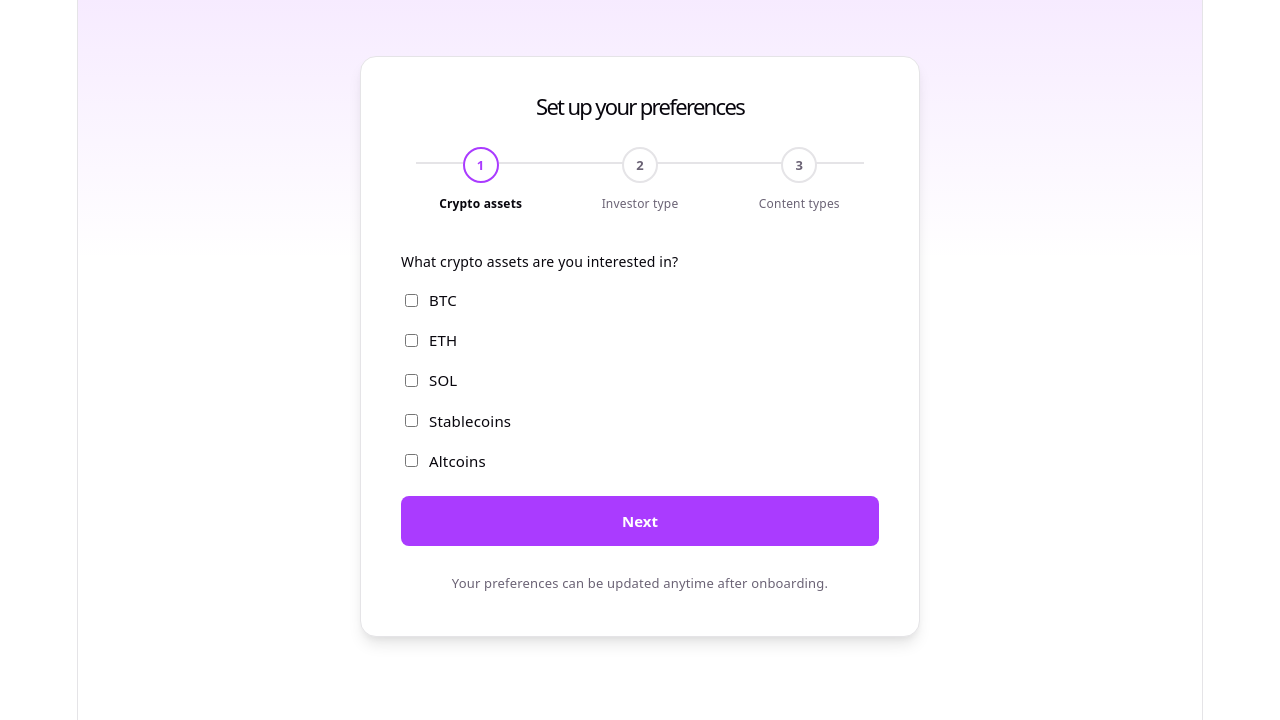
Test case: OnboardingPage › displays a validation error returned by the API on 400
Step 1. Click the checkbox labelled "BTC" → (412, 300), box [405, 294, 418, 307]
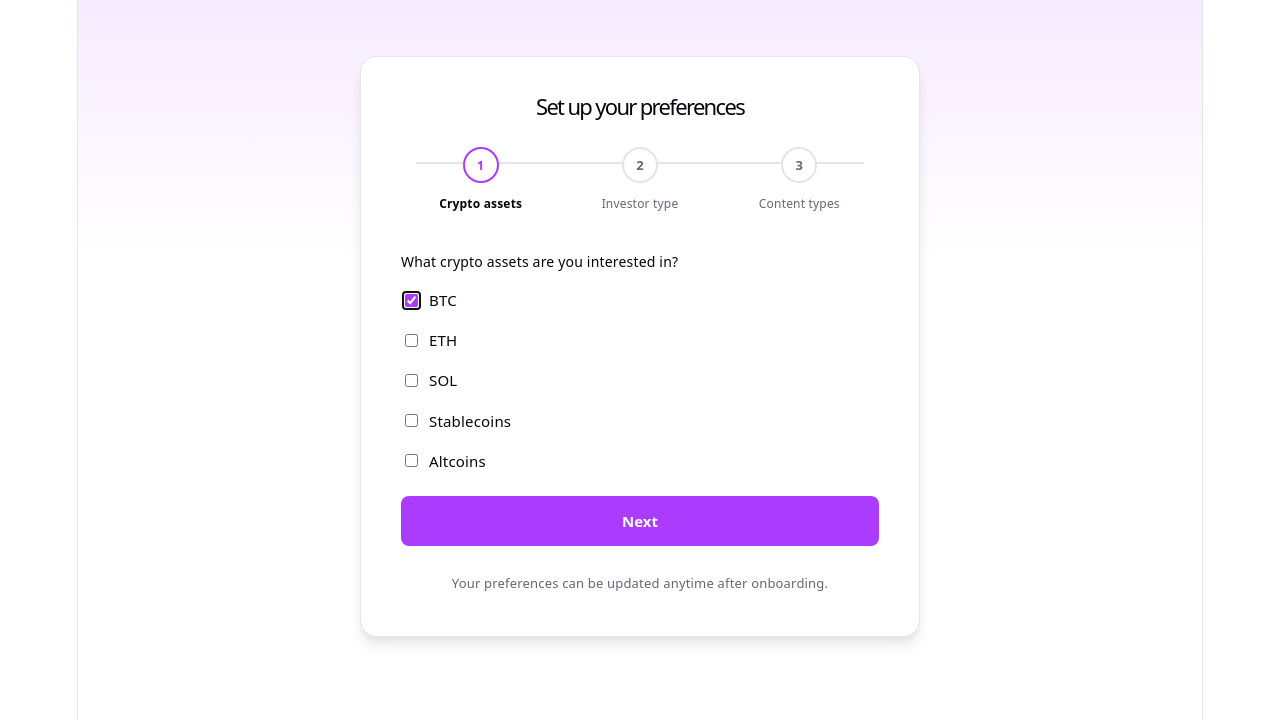
Step 2. Click the button "Next" → (640, 521), box [401, 496, 879, 546]
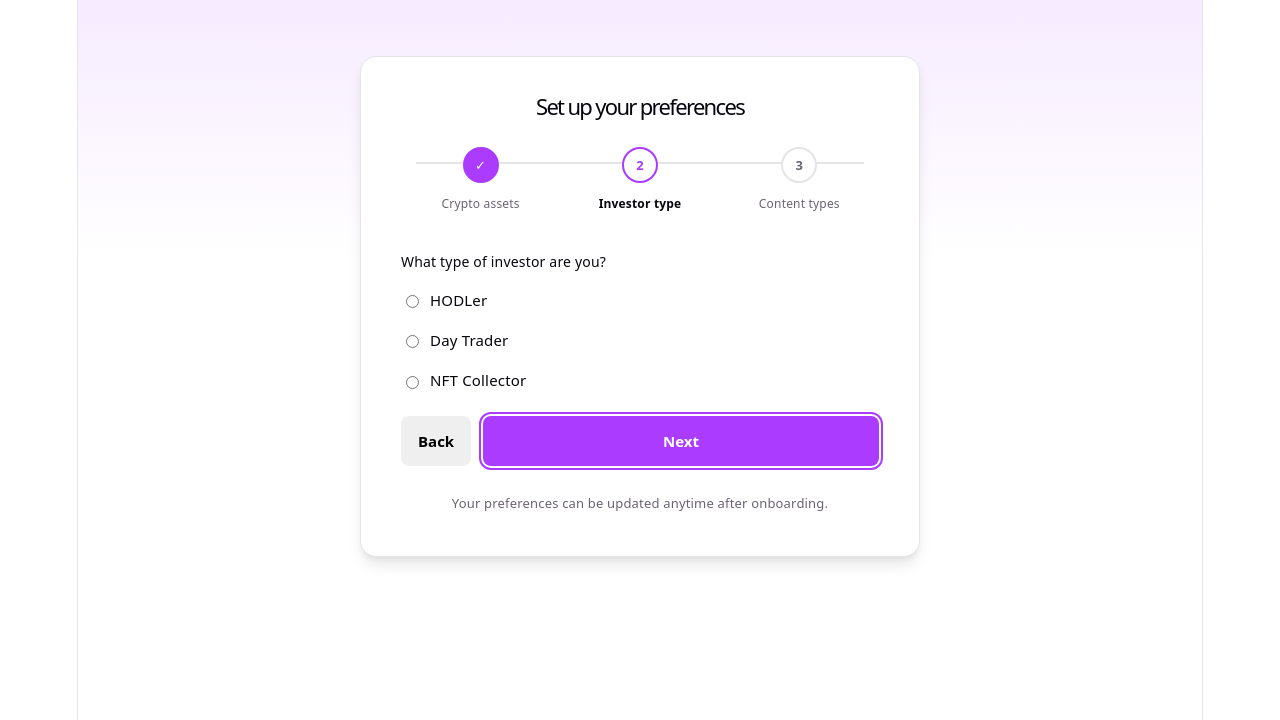
Step 3. Click the radio button labelled "HODLer" → (412, 302), box [406, 295, 419, 308]
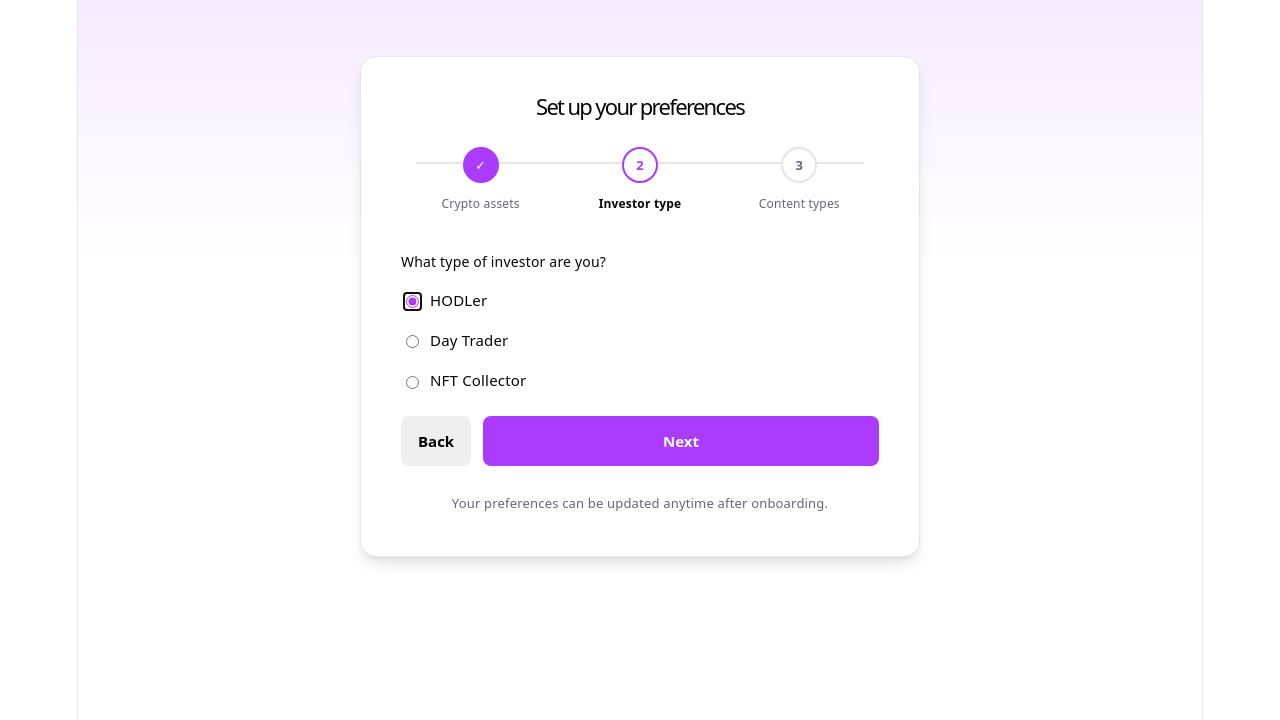
Step 4. Click the button "Next" → (681, 441), box [483, 416, 879, 466]
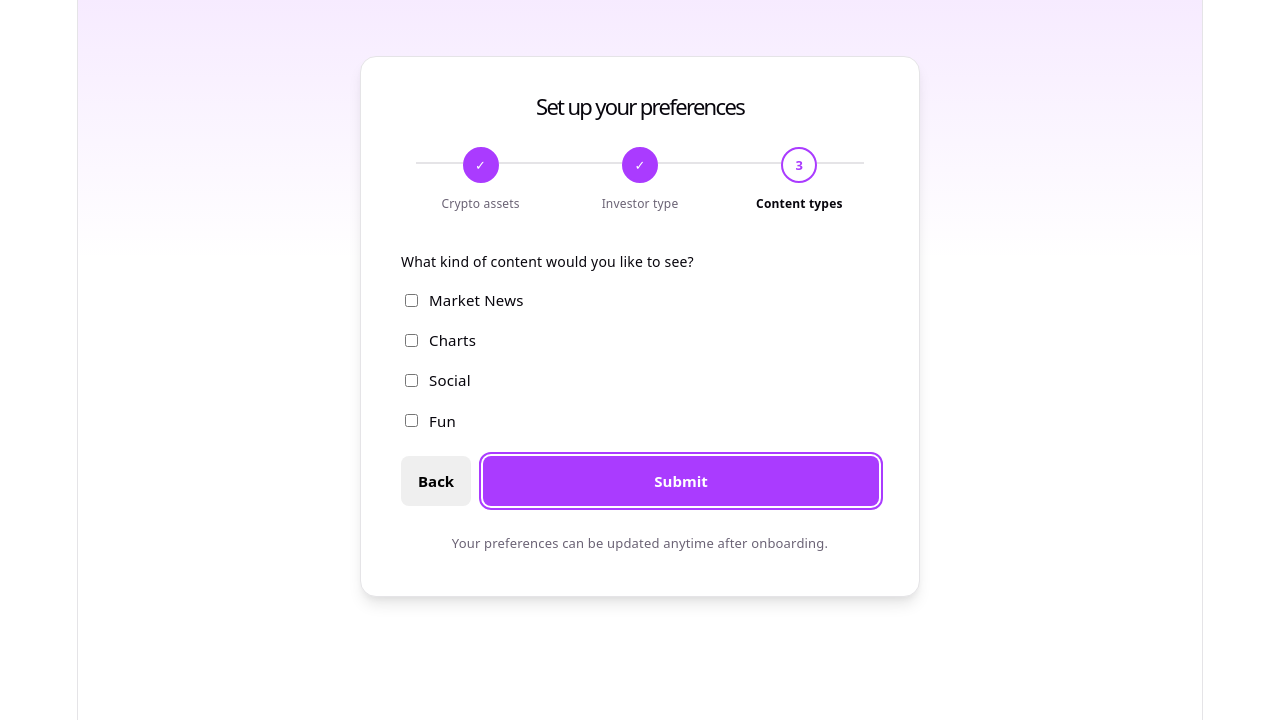
Step 5. Click the checkbox labelled "Market News" → (412, 300), box [405, 294, 418, 307]
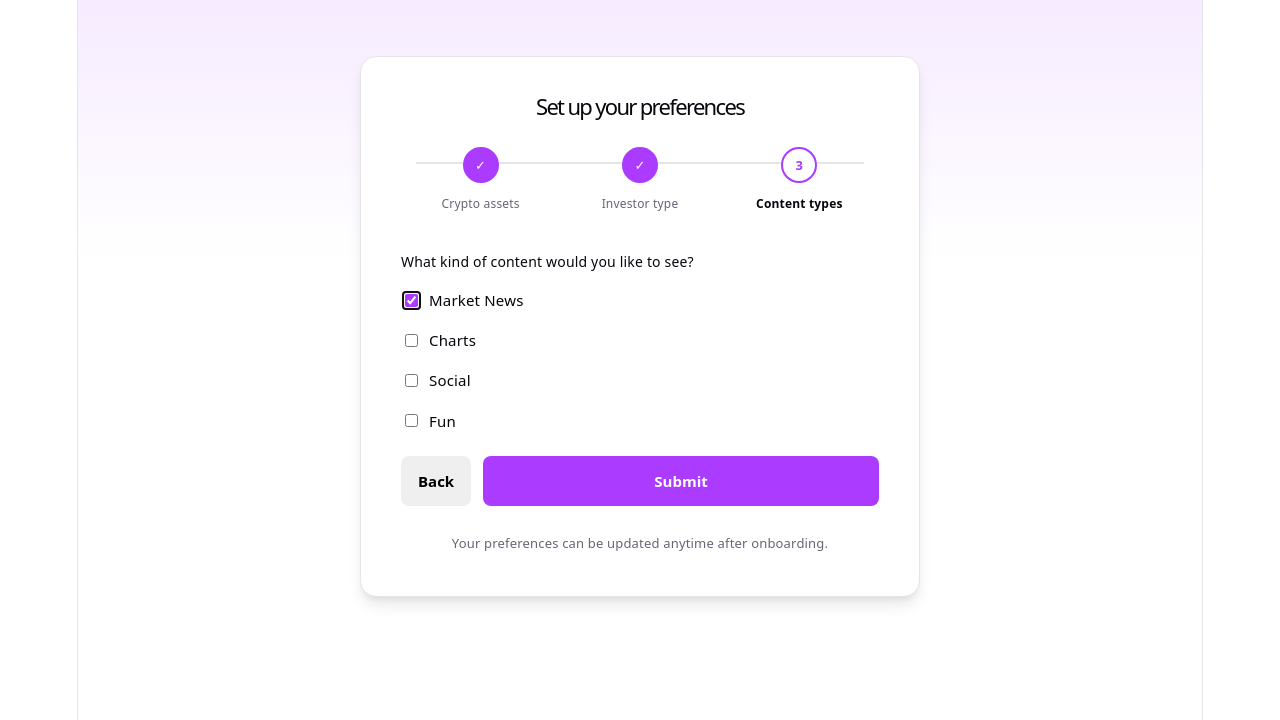
Step 6. Click the button "Submit" → (681, 481), box [483, 456, 879, 506]
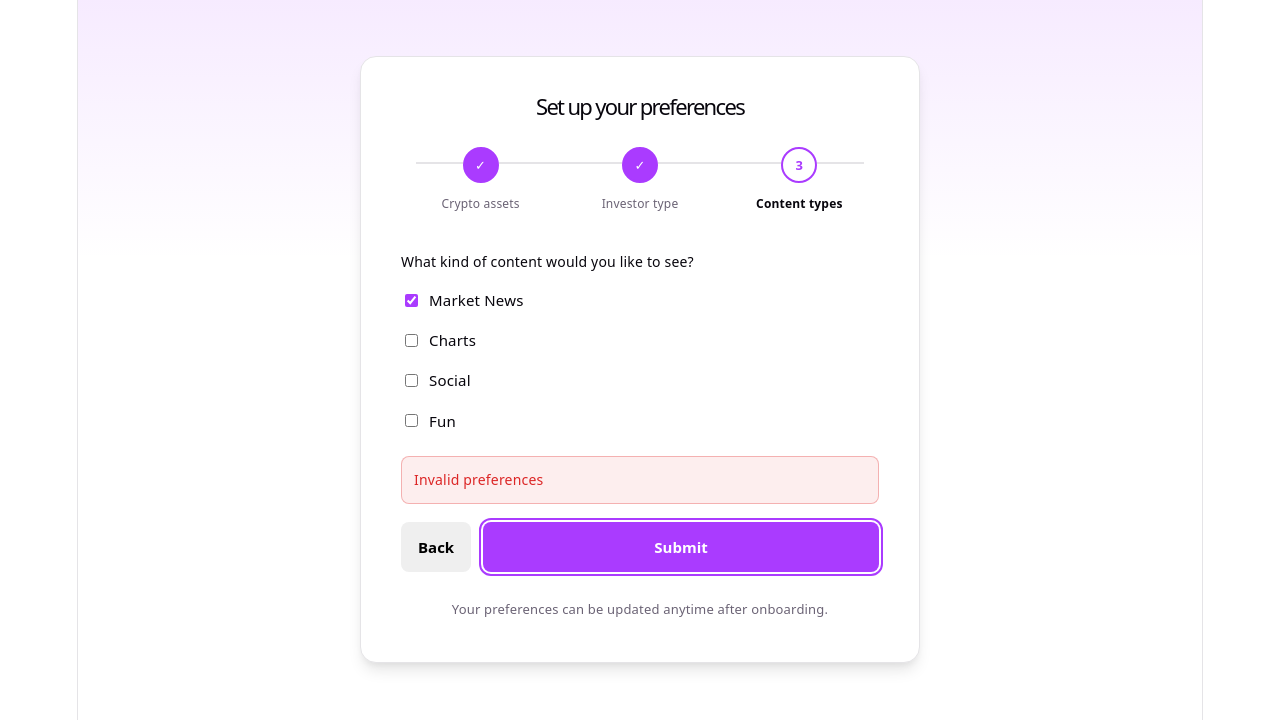
Result: the text "Invalid preferences" is shown at [401, 456, 879, 504]
